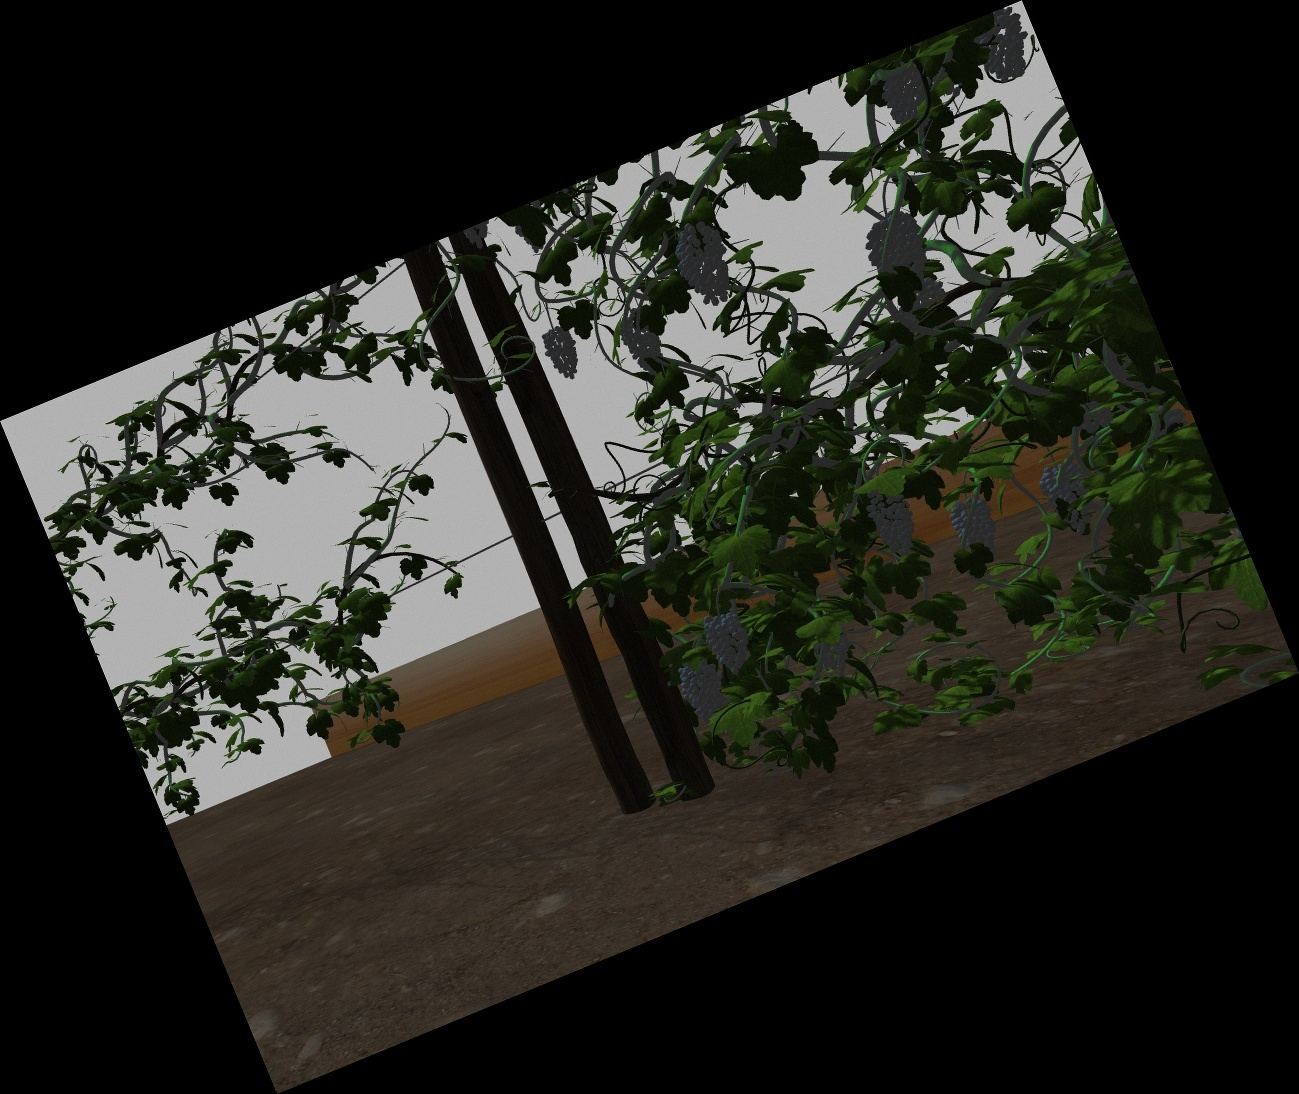grape: (868, 213, 928, 290), (679, 222, 728, 305), (1047, 462, 1091, 533), (873, 489, 917, 556), (985, 12, 1028, 77), (710, 612, 750, 672), (954, 498, 996, 554), (624, 310, 661, 372), (685, 661, 722, 718), (884, 71, 927, 120), (546, 327, 581, 377), (818, 629, 854, 674)
